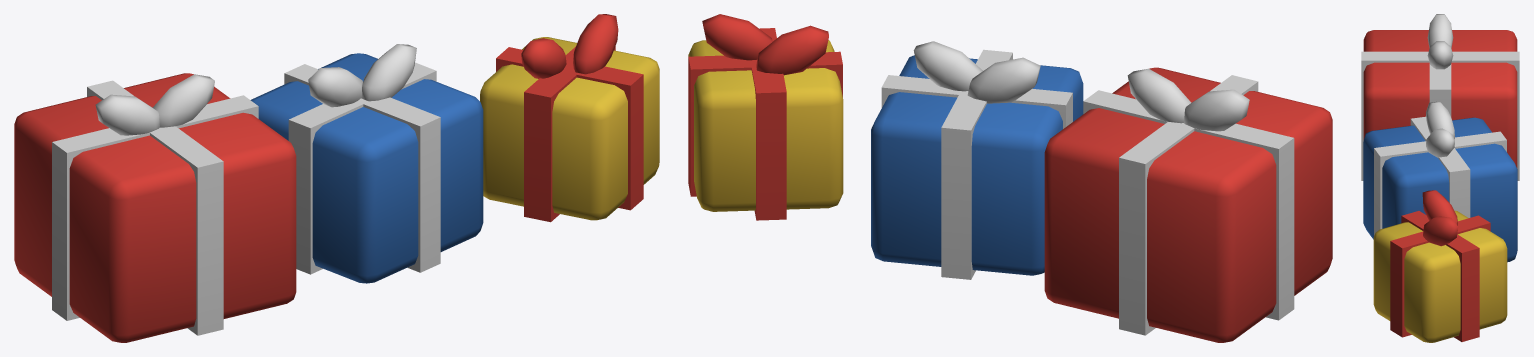
The model's file is fe-presents.glb.
3 views of the same model, side by side, from view 1: azimuth 30°, elevation 25°; view 2: azimuth 150°, elevation 25°; view 3: azimuth 270°, elevation 25° (orthographic). The views are drawn at different scales.
Parts seen in each view (by area): view 1: fe-presents; view 2: fe-presents; view 3: fe-presents.
Boxes of the visible parts, x1,y1,x2,y2 form: fe-presents: [14, 14, 659, 342]; fe-presents: [688, 14, 1332, 342]; fe-presents: [1361, 14, 1519, 342].
Bounding box in the file's own units: 1.14 × 0.3795 × 0.37.
